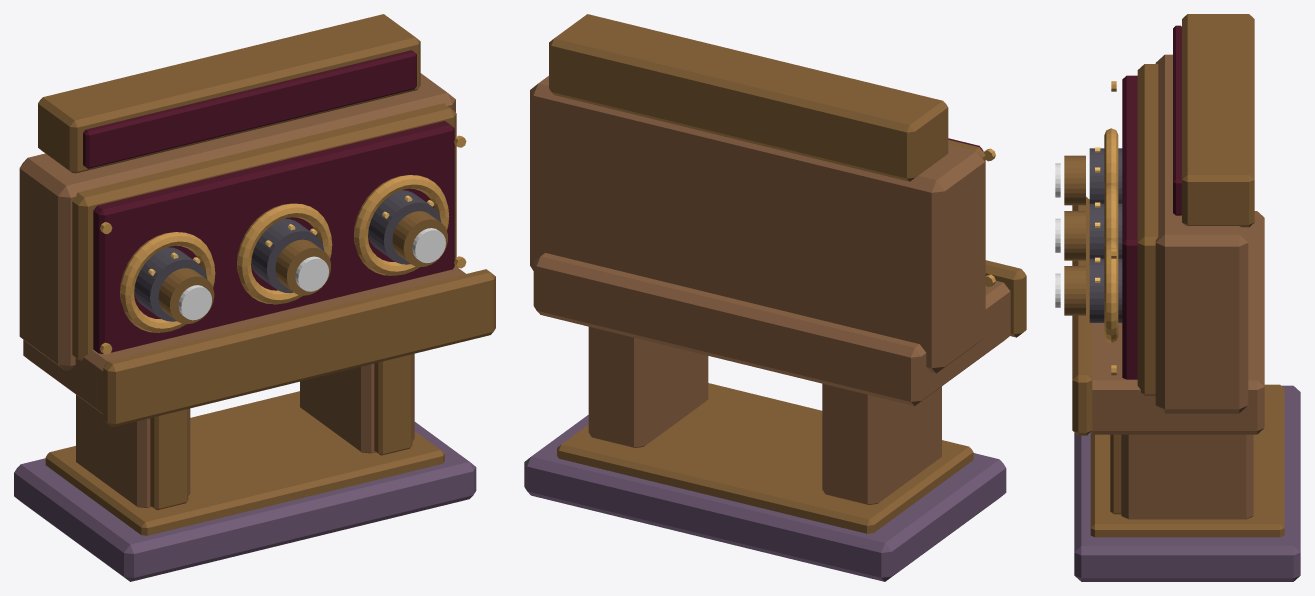
File: SM_RGB_LightConsole.fbx
The picture shows the model from 3 angles, left to right: view 1: azimuth 30°, elevation 25°; view 2: azimuth 150°, elevation 25°; view 3: azimuth 270°, elevation 25°; orthographic projection. The views are drawn at different scales.
Visible parts, largest first — view 1: SM_RGB_LightConsole; view 2: SM_RGB_LightConsole; view 3: SM_RGB_LightConsole.
Boxes of the visible parts, x1,y1,x2,y2 form: SM_RGB_LightConsole: (14,14,495,581); SM_RGB_LightConsole: (524,14,1026,581); SM_RGB_LightConsole: (1055,14,1300,581).
Size of the model in its own units: 245 by 136 by 248.
